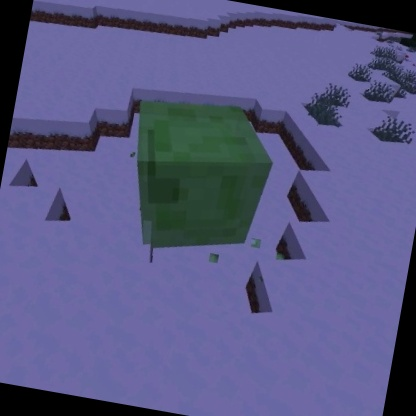slime: (111, 85, 286, 270)
